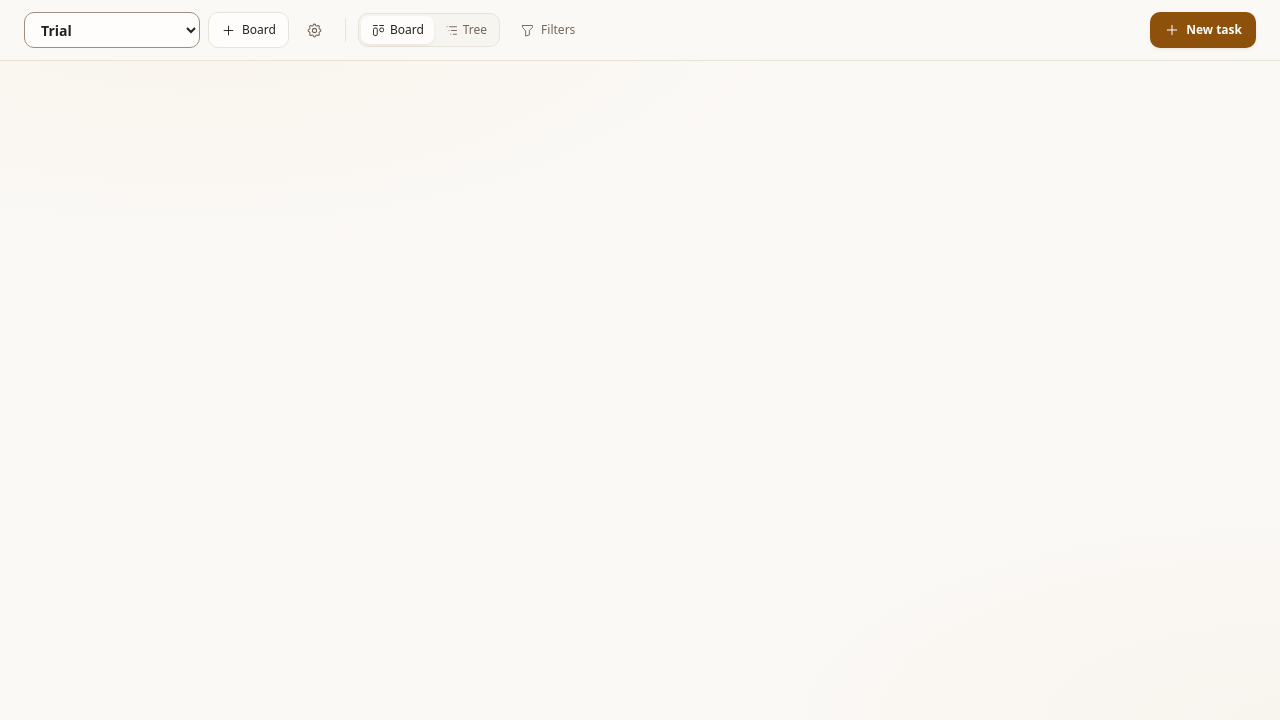
Test: BoardToolbar concurrency limits › disables Save when a limit is not a positive whole number
Click the button named "Board settings" at (315, 30), box [297, 12, 333, 48]
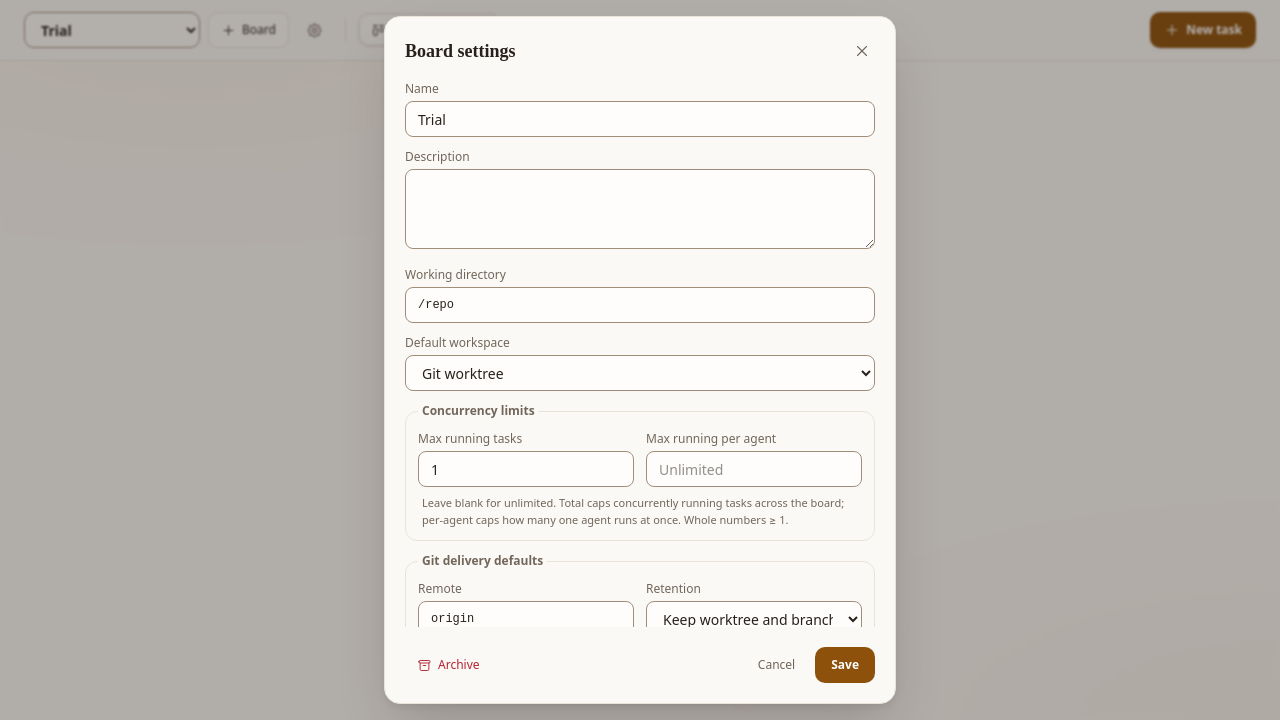
Expected: the button "Save" is enabled, [815, 647, 875, 683]
Replace the text in the number field labelled "Max running tasks" with "0" at (526, 469), box [418, 451, 634, 487]
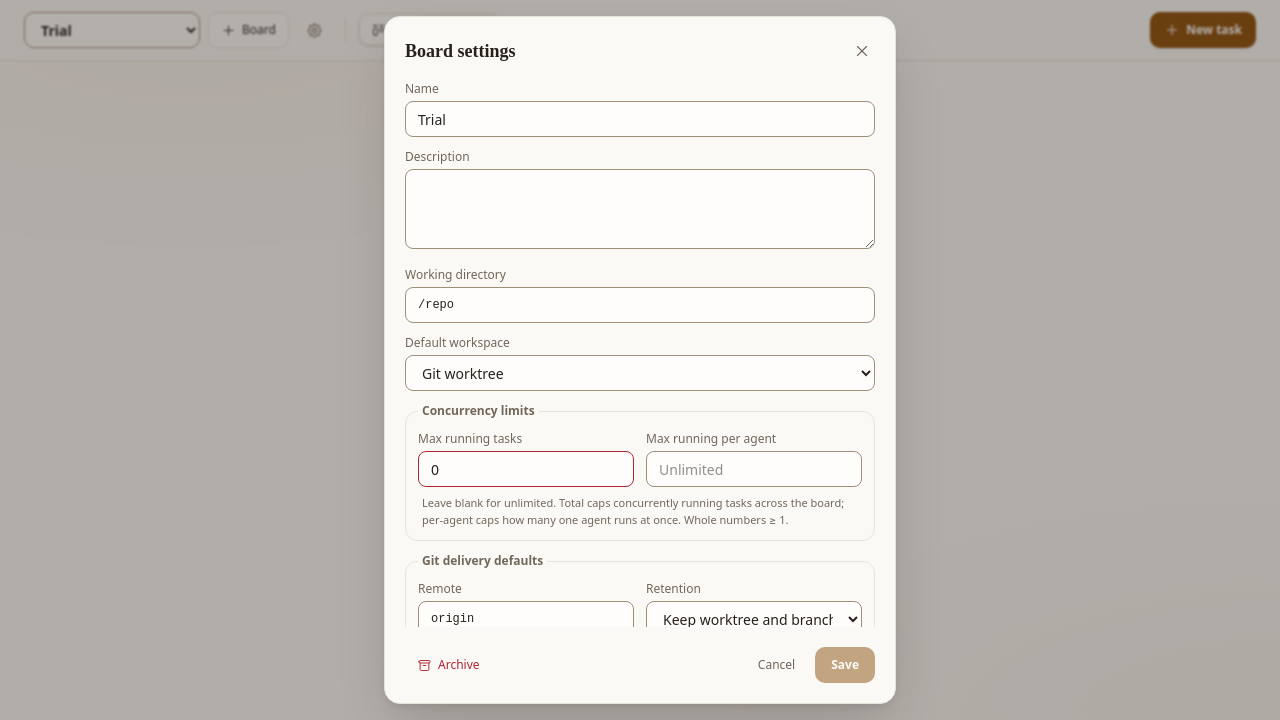
Expected: the button "Save" is disabled, [815, 647, 875, 683]
Replace the text in the number field labelled "Max running tasks" with "2" at (526, 469), box [418, 451, 634, 487]
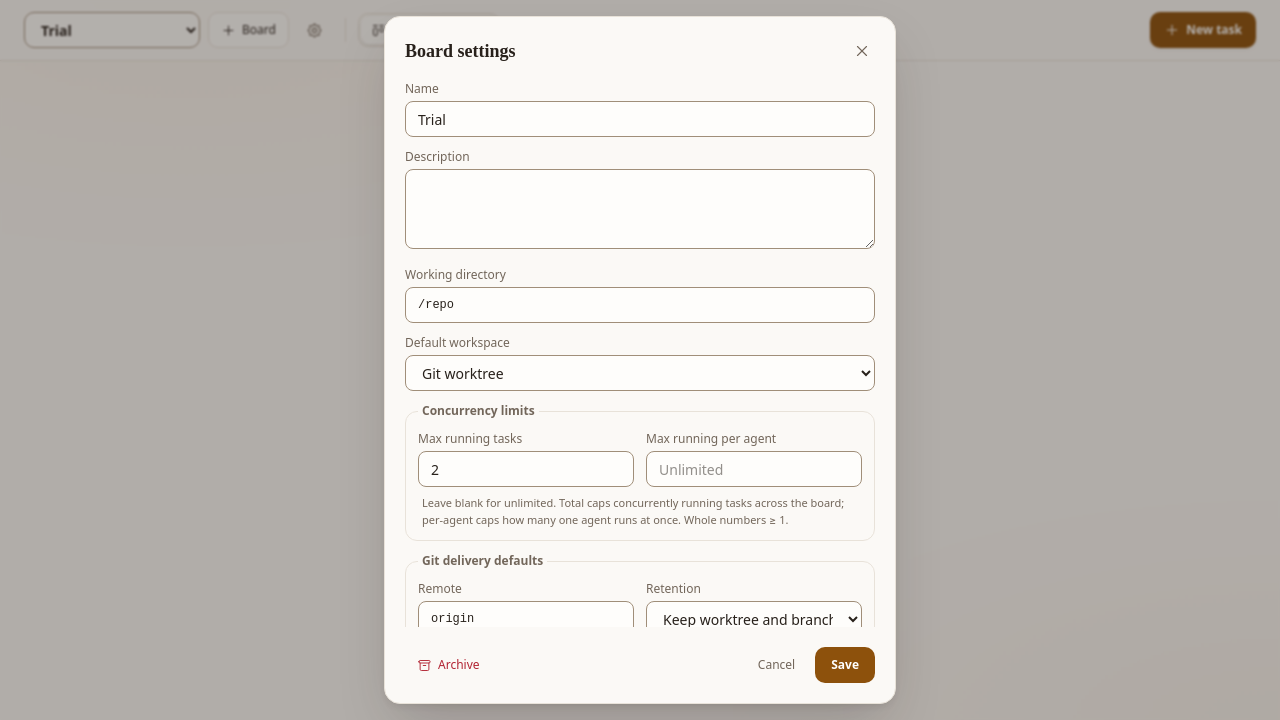
Expected: the button "Save" is enabled, [815, 647, 875, 683]
